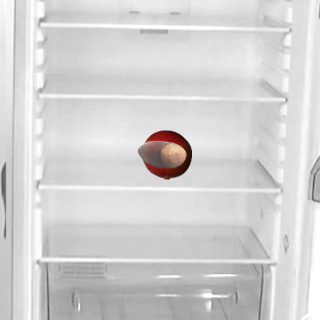Apple Braeburn: (141, 129, 191, 179)
Hazelnut: (136, 129, 186, 179)
